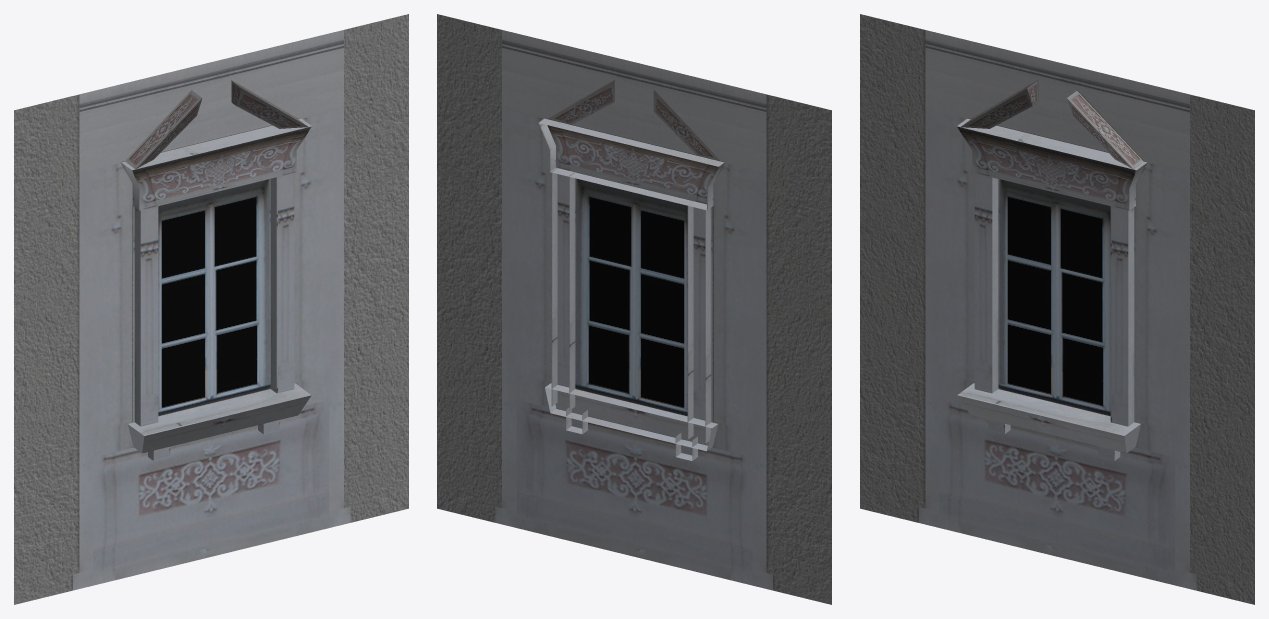
File: win3.obj
The picture shows the model from 3 angles, left to right: view 1: azimuth 30°, elevation 25°; view 2: azimuth 150°, elevation 25°; view 3: azimuth 330°, elevation 25°; orthographic projection.
Parts seen in each view (by area): view 1: polySurface81; view 2: polySurface81; view 3: polySurface81.
Boxes of the visible parts, x1,y1,x2,y2 form: polySurface81: [14, 14, 408, 604]; polySurface81: [437, 14, 831, 604]; polySurface81: [860, 14, 1254, 604].
Size of the model in its own units: 1 by 1.2 by 0.0995.
Materials: 1 (1 with a texture image).
